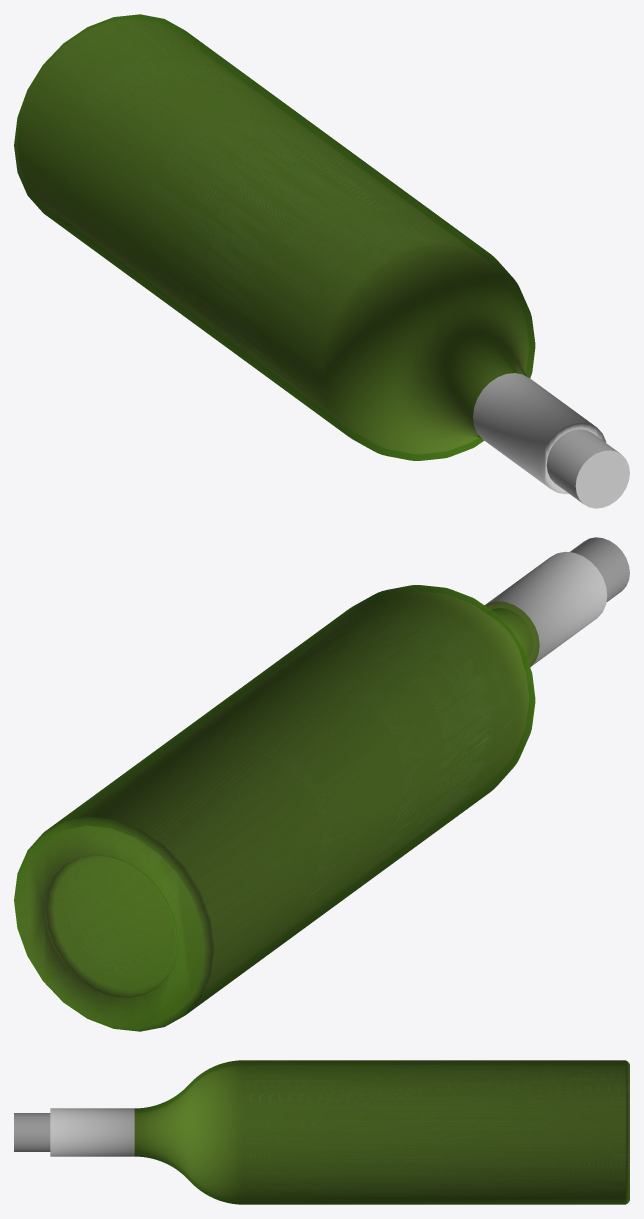
The model's file is model_align.obj.
3 renders of one model, top to bottom at view 1: azimuth 30°, elevation 25°; view 2: azimuth 150°, elevation 25°; view 3: azimuth 270°, elevation 25°, orthographic. The views are drawn at different scales.
Visible parts, largest first — view 1: mesh1_mesh1-geometry; view 2: mesh1_mesh1-geometry; view 3: mesh1_mesh1-geometry.
Part boxes in pixels (left/top/right/bottom): mesh1_mesh1-geometry: left=14, top=14, right=629, bottom=508; mesh1_mesh1-geometry: left=14, top=537, right=629, bottom=1031; mesh1_mesh1-geometry: left=14, top=1060, right=629, bottom=1204.
Size of the model in its own units: 0.06 by 0.06 by 0.2549.
